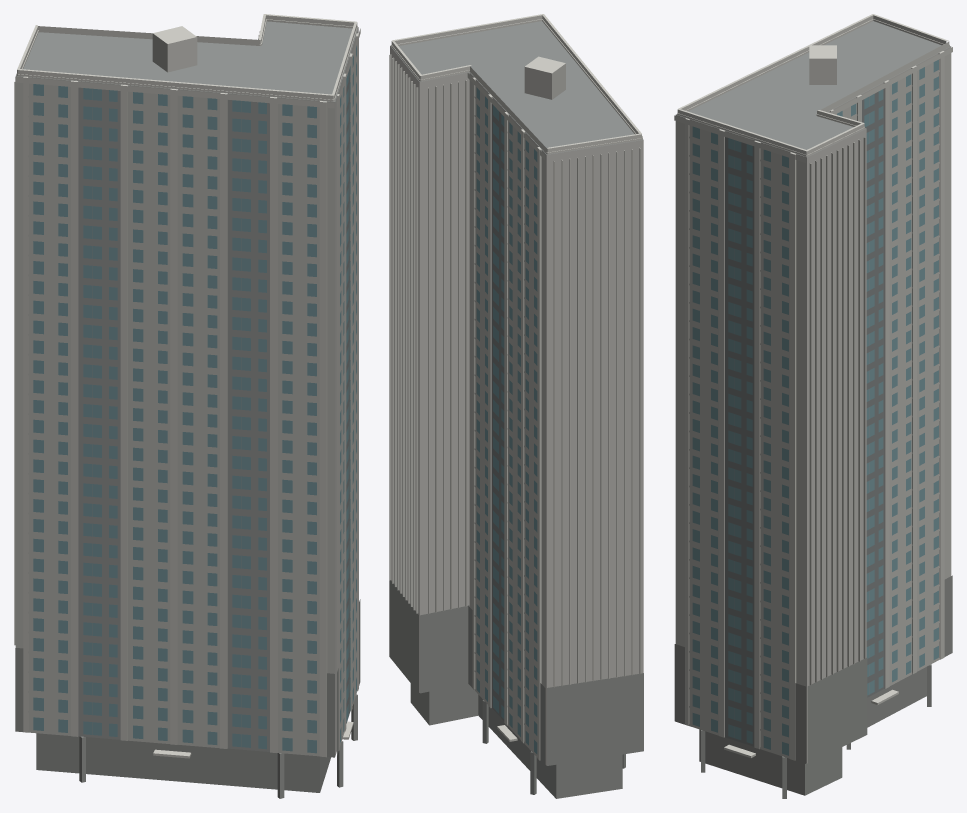
The model's file is maple-xi-113.glb.
The picture shows the model from 3 angles, left to right: view 1: azimuth 30°, elevation 25°; view 2: azimuth 150°, elevation 25°; view 3: azimuth 270°, elevation 25°; orthographic projection. The views are drawn at different scales.
Visible parts, largest first — view 1: maple-xi-113; view 2: maple-xi-113; view 3: maple-xi-113.
Boxes of the visible parts, bbox=[...] form: maple-xi-113: bbox=[14, 14, 360, 798]; maple-xi-113: bbox=[389, 14, 643, 798]; maple-xi-113: bbox=[674, 14, 952, 798].
Size of the model in its own units: 50.38 by 113 by 42.37.
